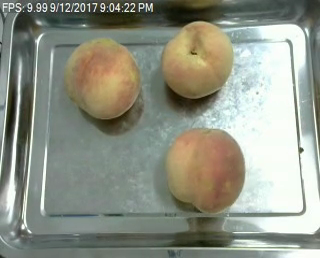Peach: (164, 127, 245, 211), (65, 36, 139, 118), (160, 20, 233, 99)
